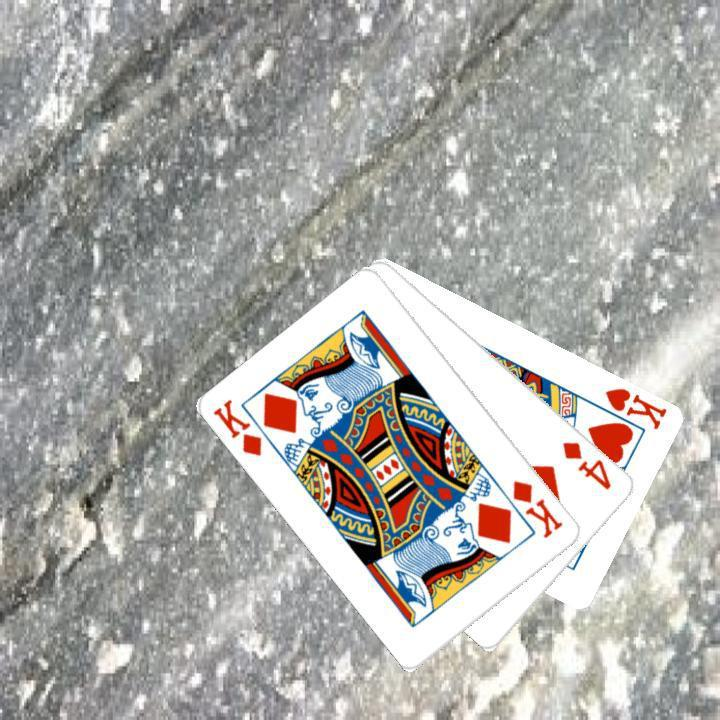4: (558, 437, 614, 492)
K: (508, 475, 566, 541), (209, 395, 265, 459), (601, 383, 670, 432)
